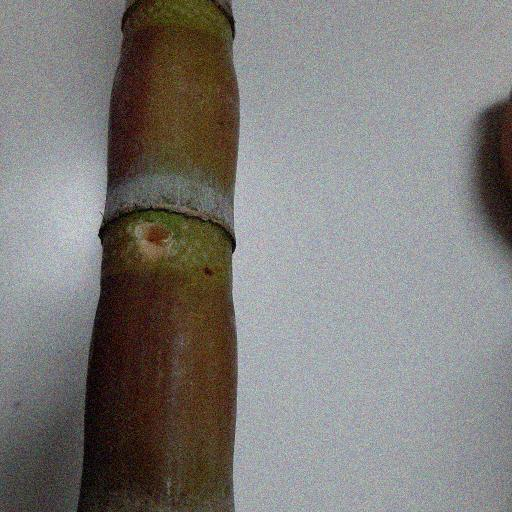Damage_Bud: (131, 218, 177, 257)
